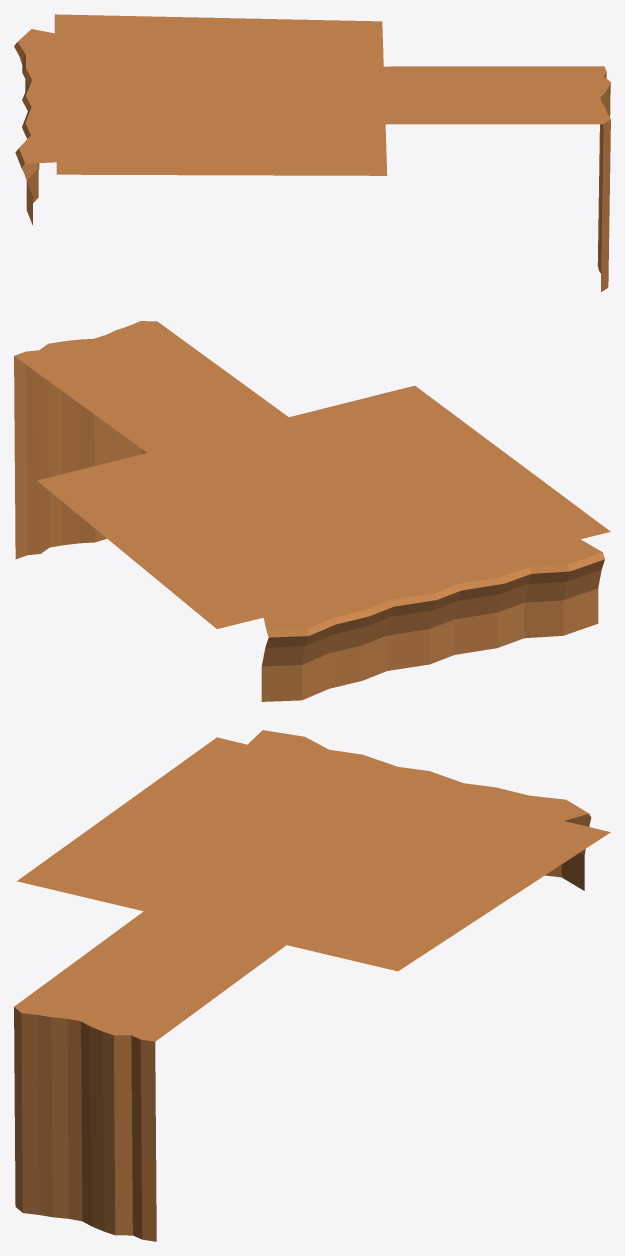
Rendered from Collider_ground6.fbx.
3 views of the same model, one above another, from view 1: azimuth 30°, elevation 25°; view 2: azimuth 150°, elevation 25°; view 3: azimuth 270°, elevation 25° (orthographic). The views are drawn at different scales.
Visible parts, largest first — view 1: 平面.052; view 2: 平面.052; view 3: 平面.052.
Part boxes in pixels (box(x1,y1,x2,y2)): 平面.052: box(14, 14, 610, 291); 平面.052: box(14, 321, 610, 701); 平面.052: box(14, 730, 610, 1241).
Bounding box in the file's own units: 5141 × 4140 × 1540.
